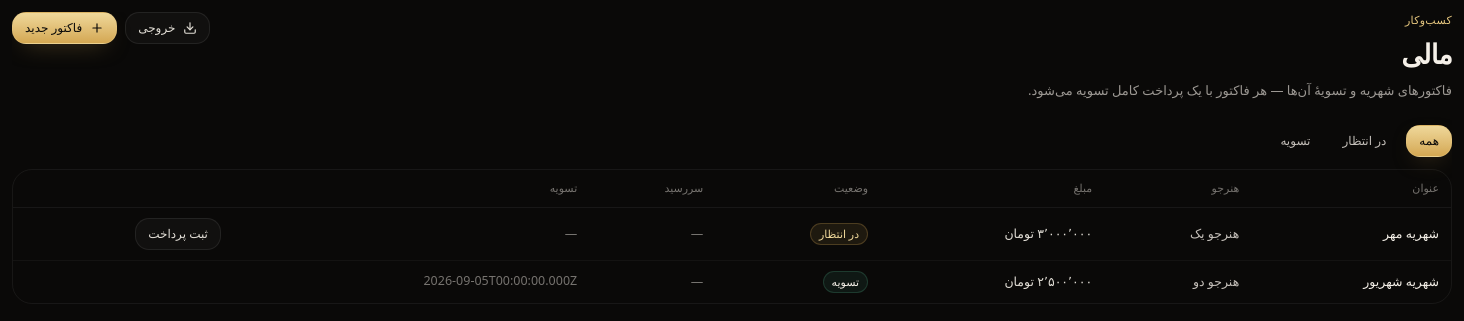
Test: FinanceView with a served backend › filters by settlement status
Expected: the table named "فهرست فاکتورها" is shown, [13,170,1451,303]
Click the button "تسویه" at point(1295, 141), box [1268,125,1322,157]
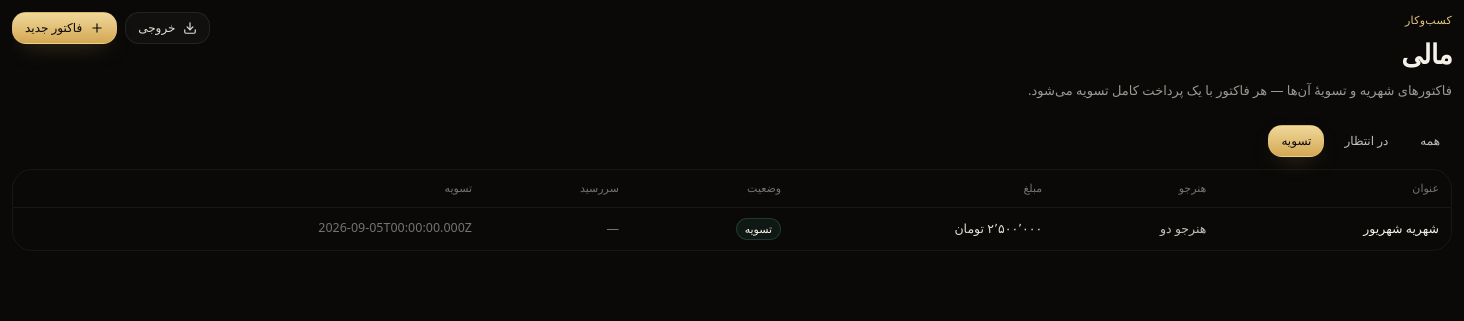
Expected: the text "شهریه شهریور" is shown, [1218,207,1451,250]
Result: the text "شهریه مهر" is gone
